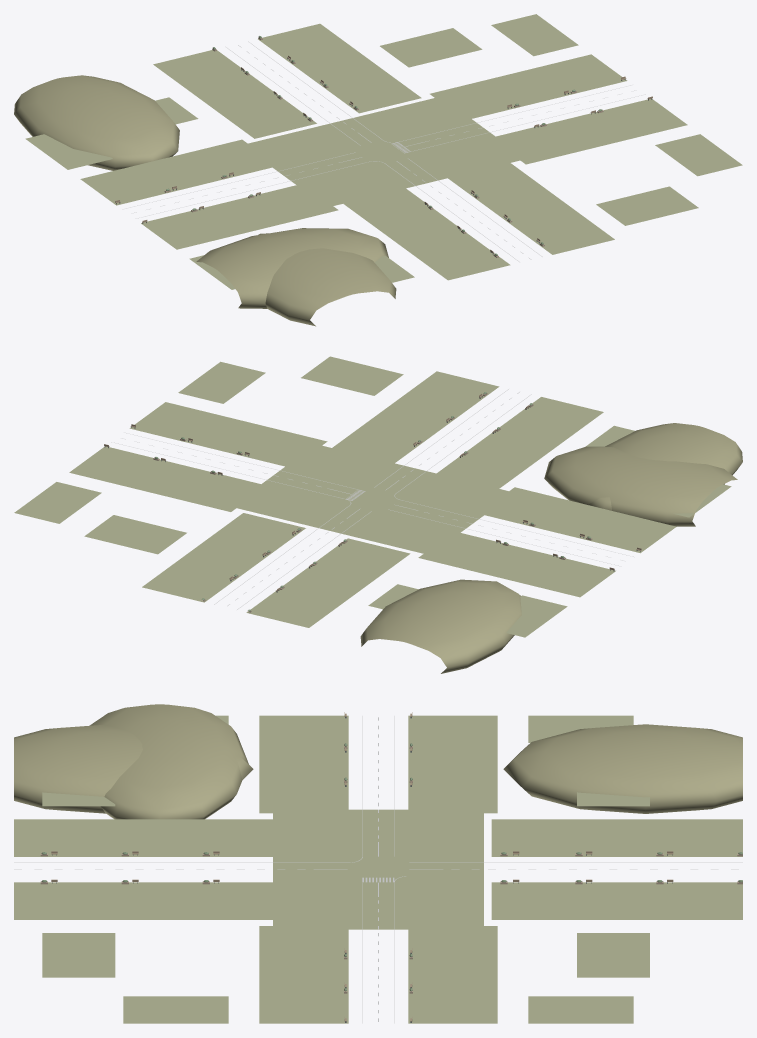
The picture shows the model from 3 angles, top to bottom: view 1: azimuth 30°, elevation 25°; view 2: azimuth 150°, elevation 25°; view 3: azimuth 270°, elevation 25°; orthographic projection. The views are drawn at different scales.
Visible parts, largest first — view 1: static; view 2: static; view 3: static.
Boxes of the visible parts, left/top/right/bottom form: static: left=14, top=14, right=742, bottom=326; static: left=14, top=356, right=742, bottom=673; static: left=14, top=704, right=742, bottom=1023.
Size of what is drawn, in the model's own units: 180 by 14.08 by 180.
